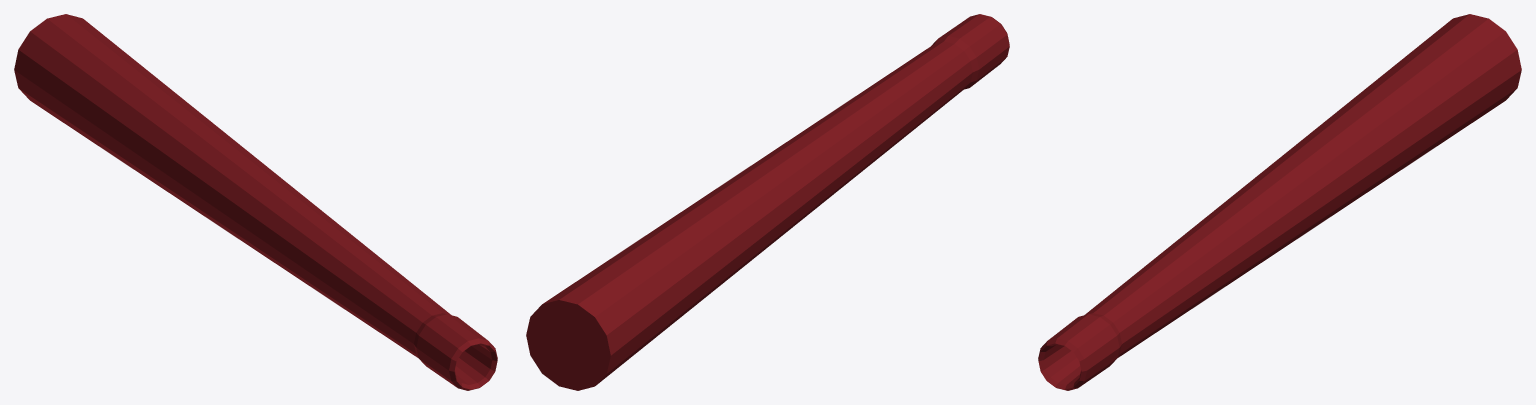
File: ENEMY LONE BARREL.fbx
3 views of the same model, side by side, from view 1: azimuth 30°, elevation 25°; view 2: azimuth 150°, elevation 25°; view 3: azimuth 330°, elevation 25° (orthographic).
Parts seen in each view (by area): view 1: Cylinder.002; view 2: Cylinder.002; view 3: Cylinder.002.
Part boxes in pixels (left/top/right/bottom): Cylinder.002: left=14, top=14, right=497, bottom=390; Cylinder.002: left=526, top=14, right=1009, bottom=390; Cylinder.002: left=1038, top=14, right=1521, bottom=390.
Bounding box in the file's own units: 26.57 × 25.9 × 228.
